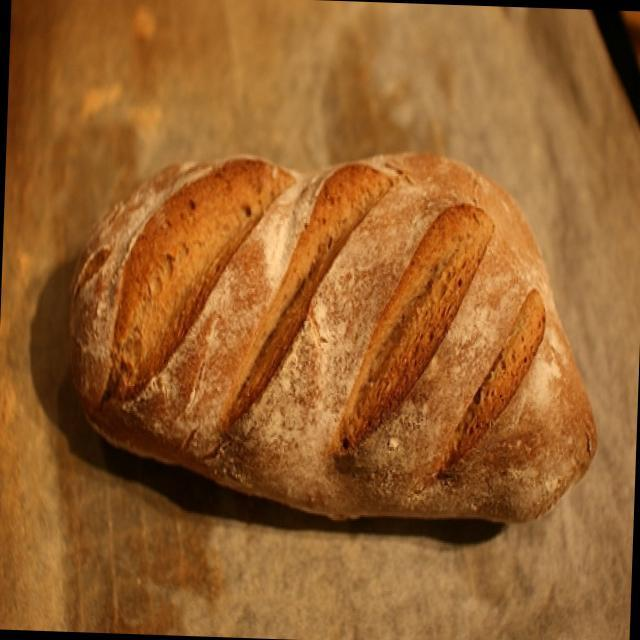Bread: (53, 125, 598, 504)
